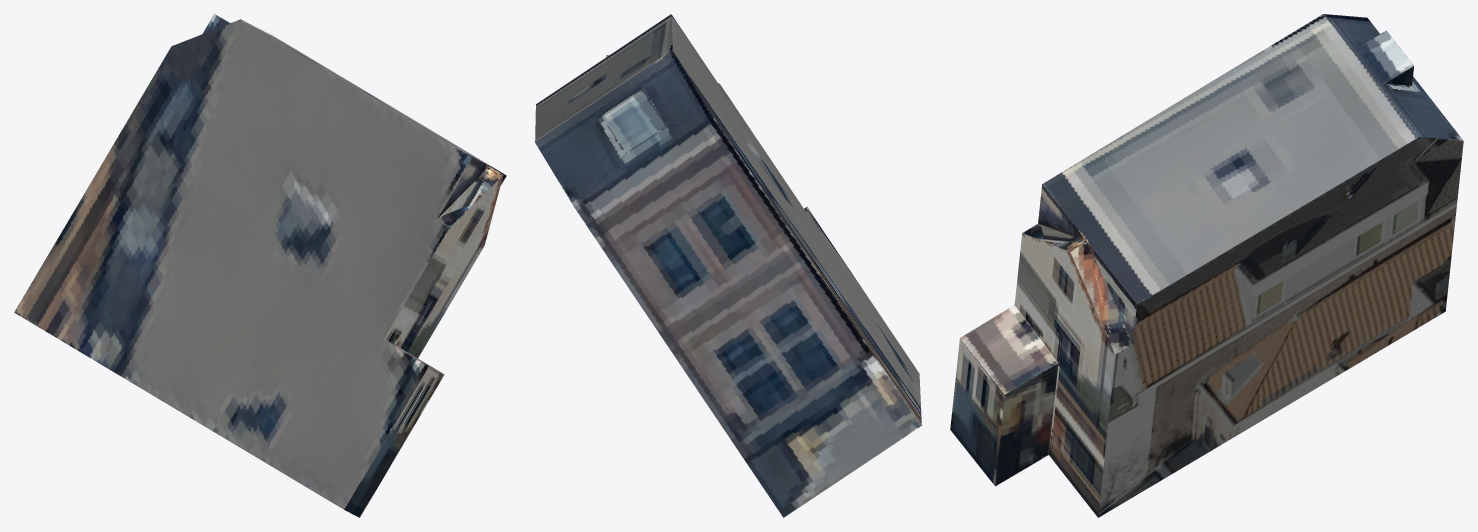
3 renders of one model, left to right at view 1: azimuth 30°, elevation 25°; view 2: azimuth 150°, elevation 25°; view 3: azimuth 270°, elevation 25°, orthographic. The views are drawn at different scales.
Visible parts, largest first — view 1: BAG_0599100000650091 (×6); view 2: BAG_0599100000650091 (×5); view 3: BAG_0599100000650091 (×6).
Part boxes in pixels (x1,y1,x2,y2): BAG_0599100000650091 (×6): (14,14,506,517); BAG_0599100000650091 (×5): (535,14,921,517); BAG_0599100000650091 (×6): (950,14,1463,517).
Size of the model in its own units: 14.81 by 14.46 by 13.36.
Materials: 6 (6 with a texture image).
